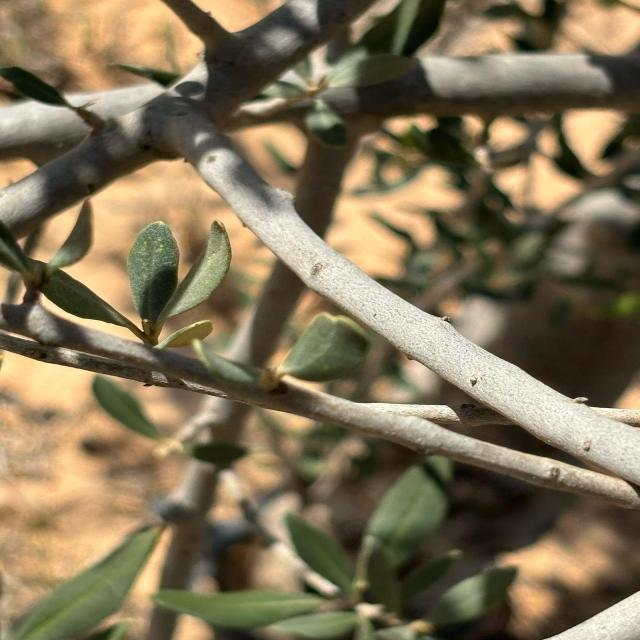Healthy: (169, 104, 639, 479)
